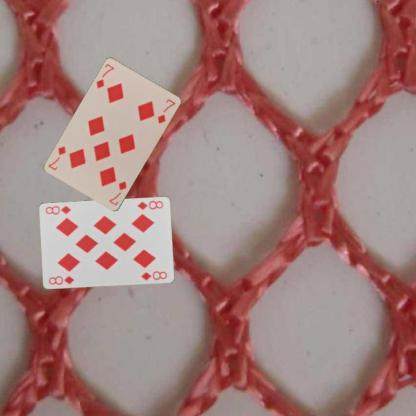7d: (106, 178, 128, 207), (94, 61, 116, 90)
8d: (134, 198, 164, 212), (46, 273, 75, 286)
